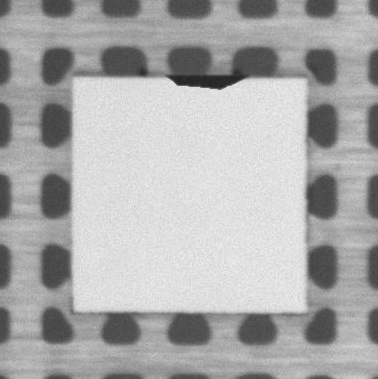DIE_BROKEN: (161, 70, 250, 91)
